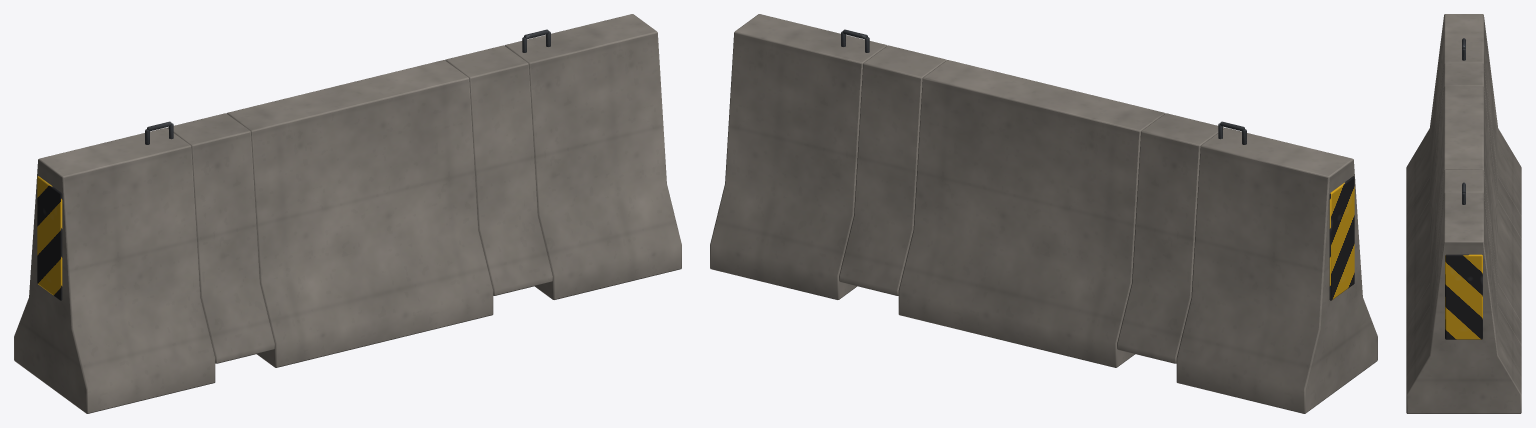
Rendered from COV_Jersey_Barrier_3m.glb.
The picture shows the model from 3 angles, left to right: view 1: azimuth 30°, elevation 25°; view 2: azimuth 150°, elevation 25°; view 3: azimuth 270°, elevation 25°; orthographic projection. The views are drawn at different scales.
Parts seen in each view (by area): view 1: COV_Jersey_Barrier_3m_Mesh; view 2: COV_Jersey_Barrier_3m_Mesh; view 3: COV_Jersey_Barrier_3m_Mesh.
Boxes of the visible parts, x1,y1,x2,y2 form: COV_Jersey_Barrier_3m_Mesh: [14, 14, 681, 413]; COV_Jersey_Barrier_3m_Mesh: [710, 14, 1377, 413]; COV_Jersey_Barrier_3m_Mesh: [1406, 14, 1521, 413].
Size of the model in its own units: 3.02 by 1.14 by 0.64.
Materials: 3 (3 with a texture image).
